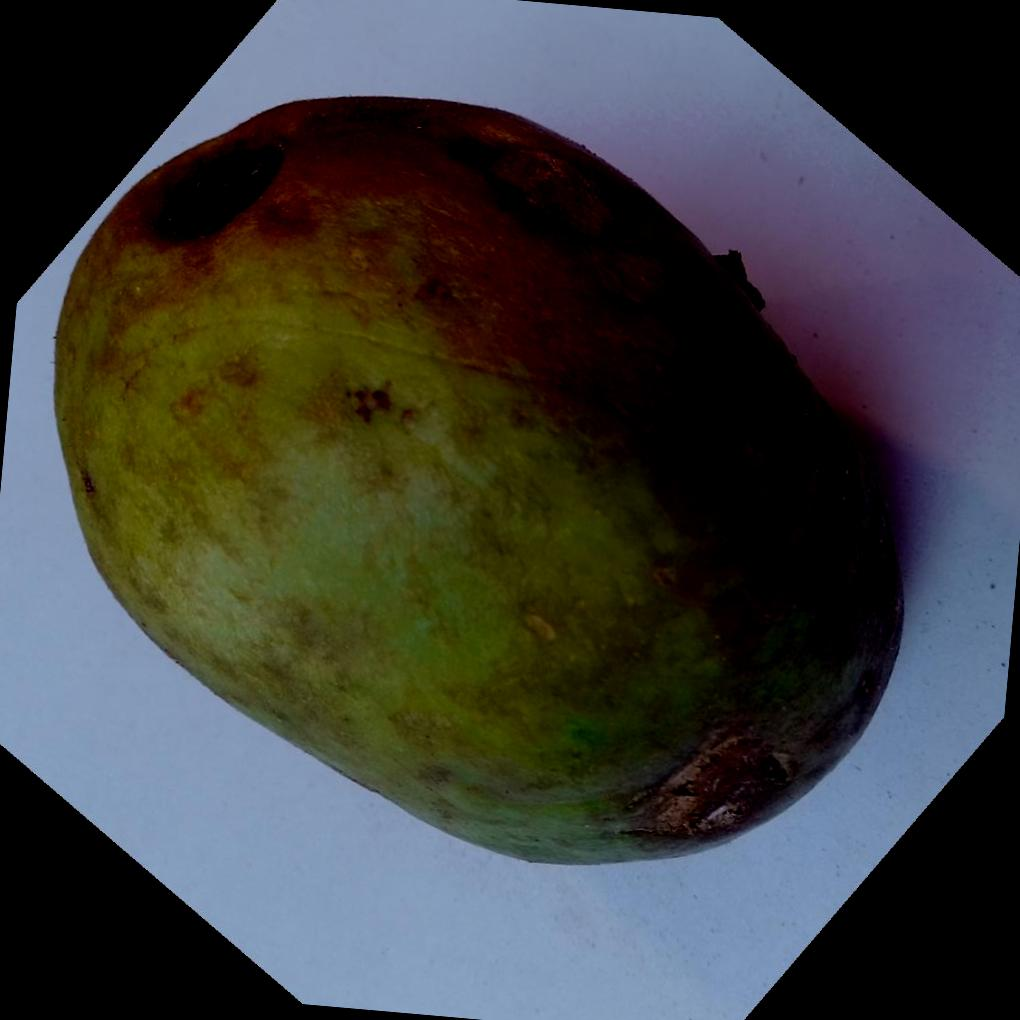FreshOrange: (54, 94, 908, 867)
